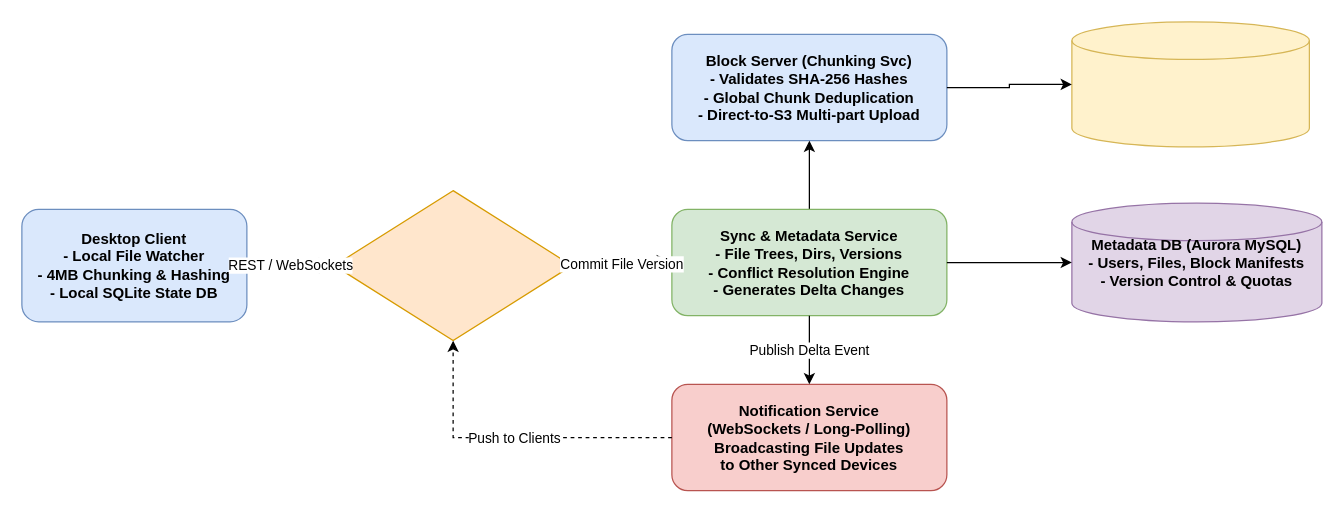
This 1344x513 diagram has some shape labels left out. The centre of each missing label's shape, as x and y in pixels:
"API Gateway (Auth, Rate Limiting, TLS Termination)" goes at point 452,265.
"S3 Block Storage (Content-Addressed: Key = SHA256 of Chunk) Encrypted at Rest" goes at point 1190,84.
